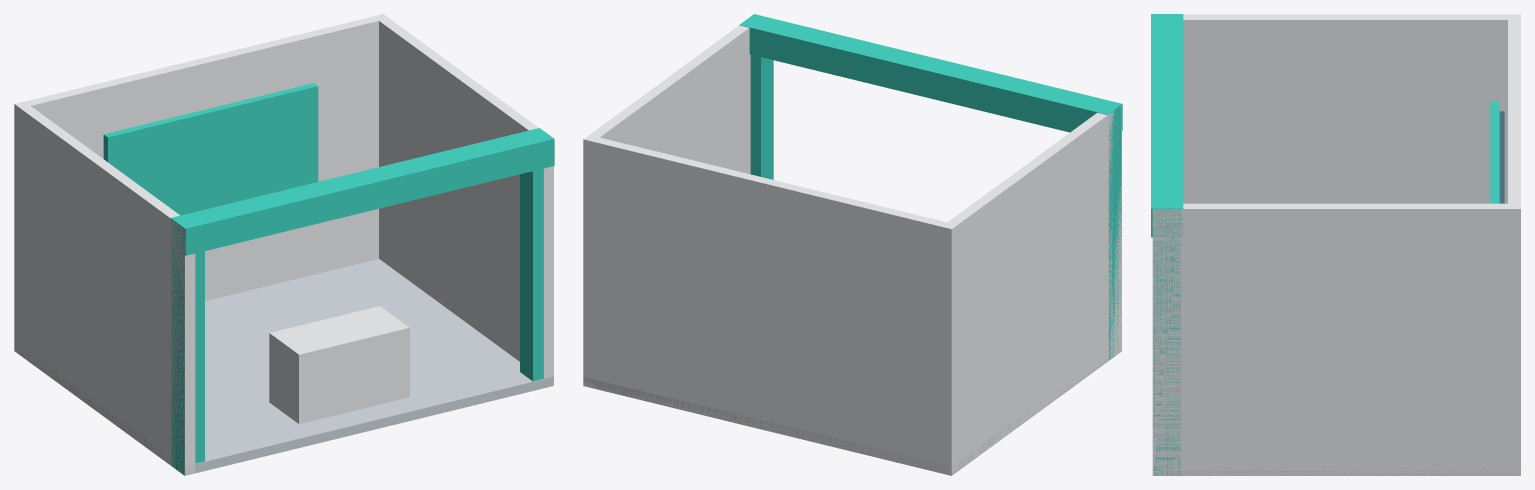
The picture shows the model from 3 angles, left to right: view 1: azimuth 30°, elevation 25°; view 2: azimuth 150°, elevation 25°; view 3: azimuth 270°, elevation 25°; orthographic projection. The views are drawn at different scales.
Parts seen in each view (by area): view 1: Exhibition Booth Concept; view 2: Exhibition Booth Concept; view 3: Exhibition Booth Concept.
Boxes of the visible parts, left/top/right/bottom form: Exhibition Booth Concept: left=14, top=14, right=554, bottom=475; Exhibition Booth Concept: left=583, top=14, right=1122, bottom=475; Exhibition Booth Concept: left=1151, top=14, right=1520, bottom=475.
Bounding box in the file's own units: 5 × 3.2 × 4.02.
